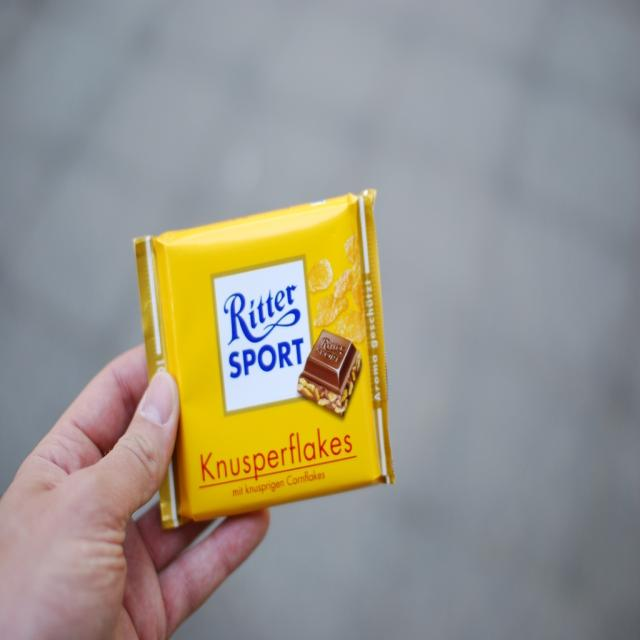rittersport: (211, 256, 323, 417)
